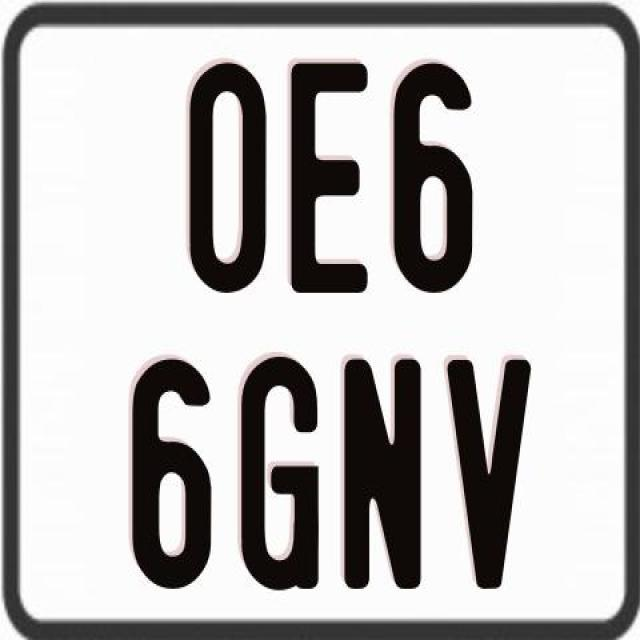0: (186, 61, 266, 292)
6: (391, 62, 476, 301), (130, 358, 210, 596)
E: (290, 58, 376, 298)
G: (238, 352, 318, 590)
N: (342, 357, 424, 597)
V: (442, 357, 528, 587)
